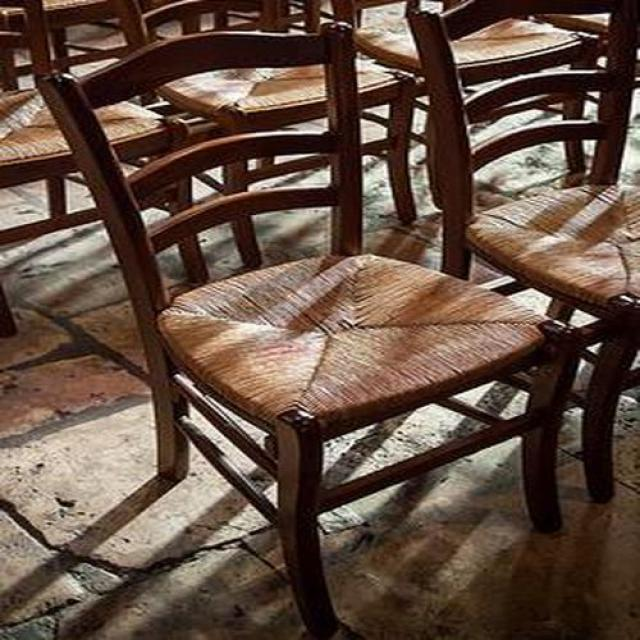chair: (36, 28, 582, 640)
